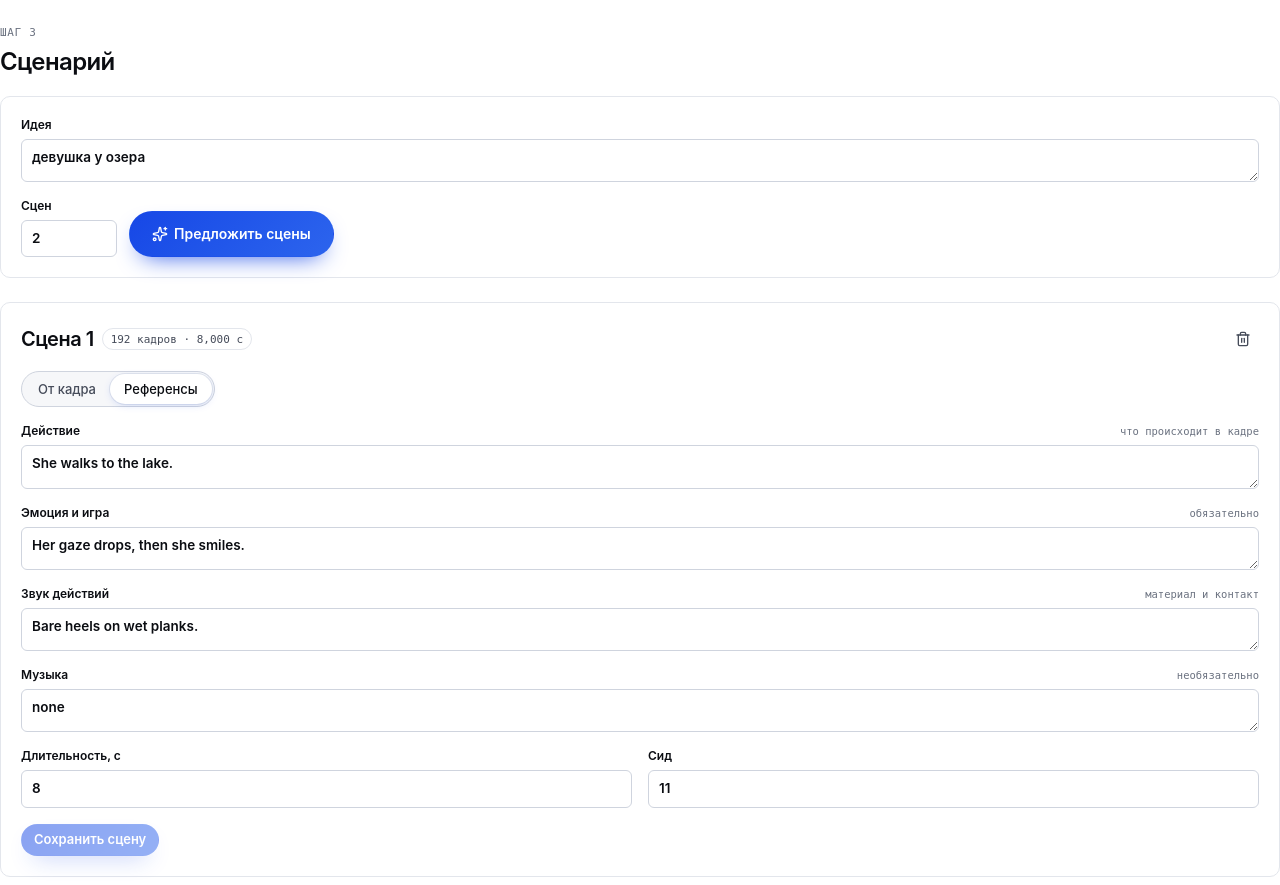
it: ScenarioStep › r1 №7: a failed save shows the server's message, and the button saves again
The image size is (1280, 885).
In the text box labelled "Музыка необязательно": (640, 711) top-left (21, 689), bottom-right (1259, 732), type "!"
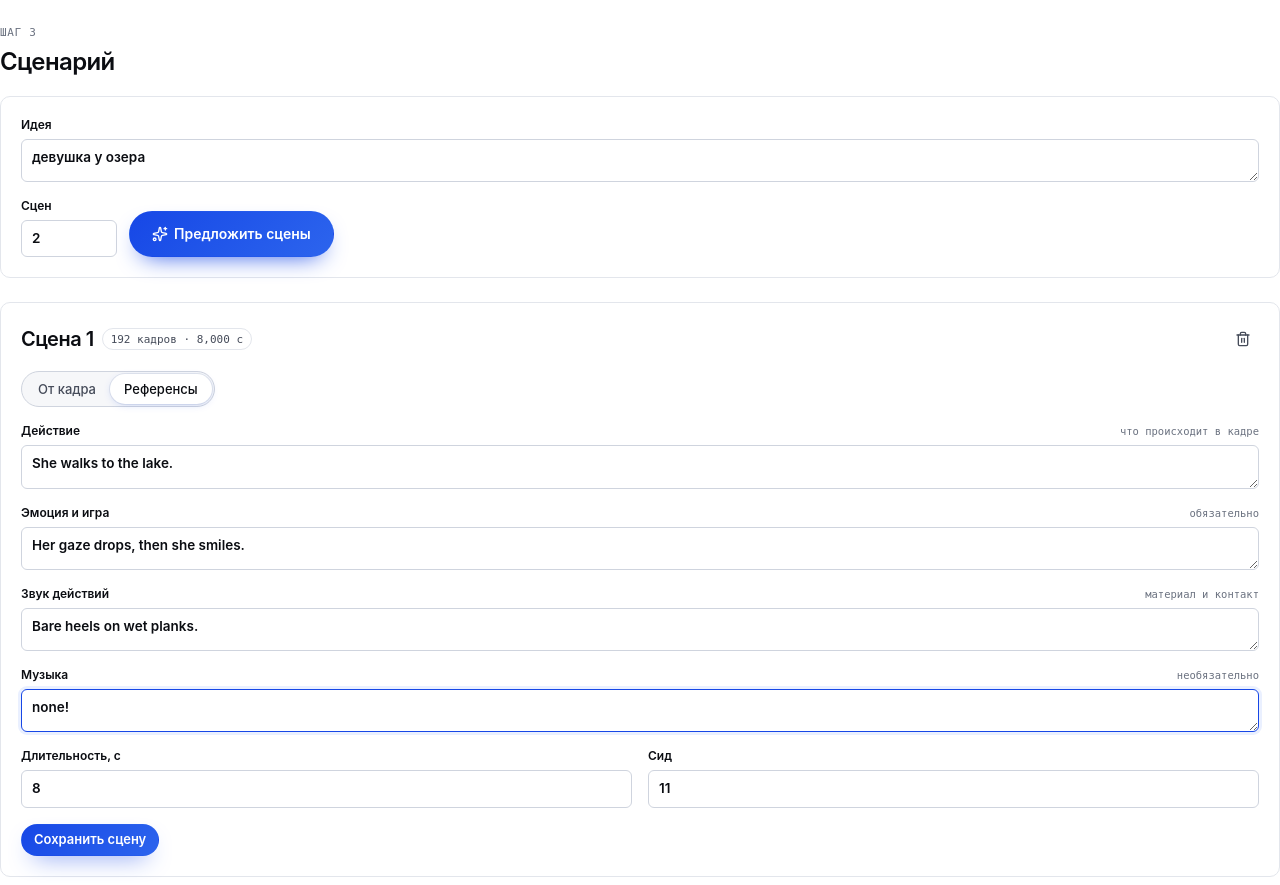
Click the button "Сохранить сцену": (90, 840) top-left (21, 824), bottom-right (159, 856)
(page scrolled)
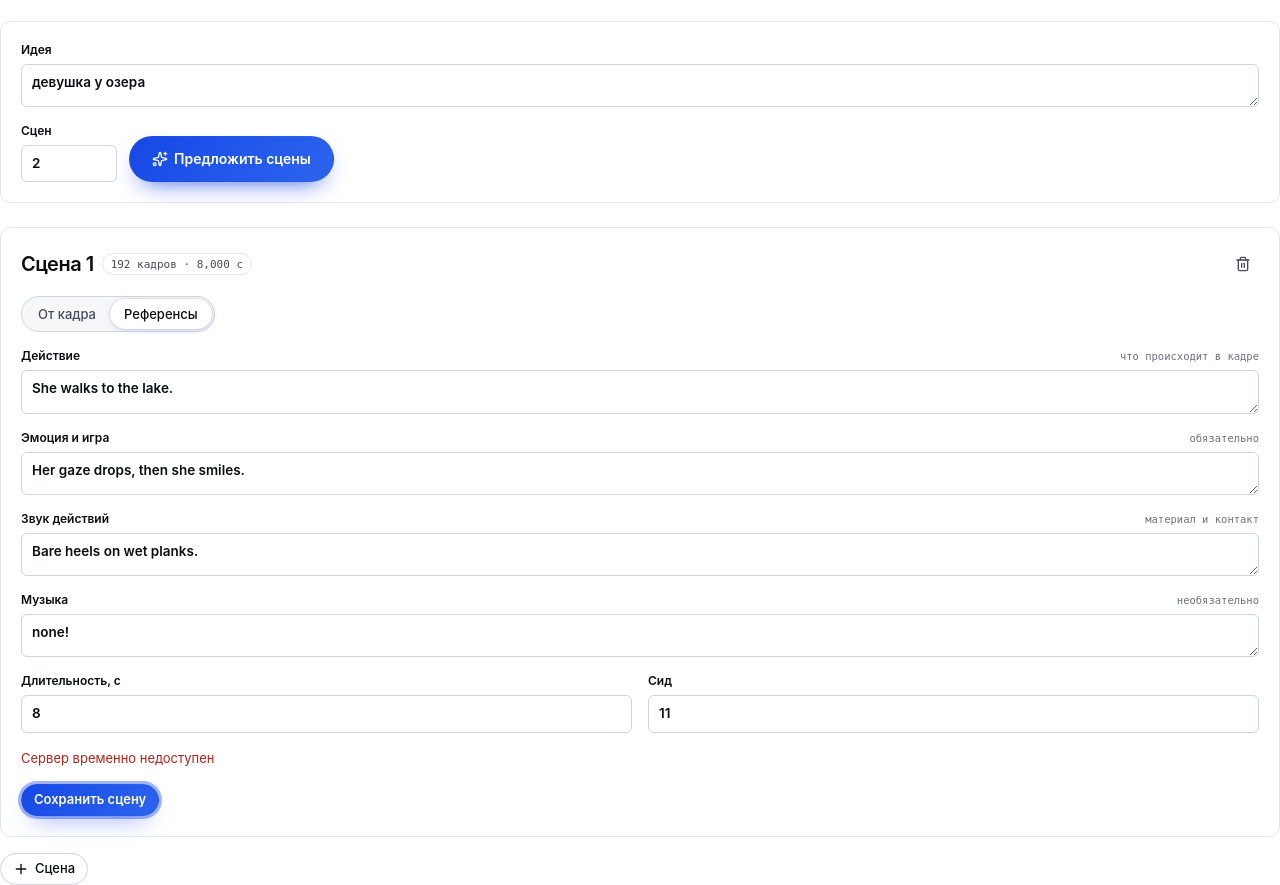
Check: the message reads "Сервер временно недоступен", box top-left (21, 750), bottom-right (214, 766)
Click the button "Сохранить сцену": (90, 800) top-left (21, 784), bottom-right (159, 816)
(page scrolled)
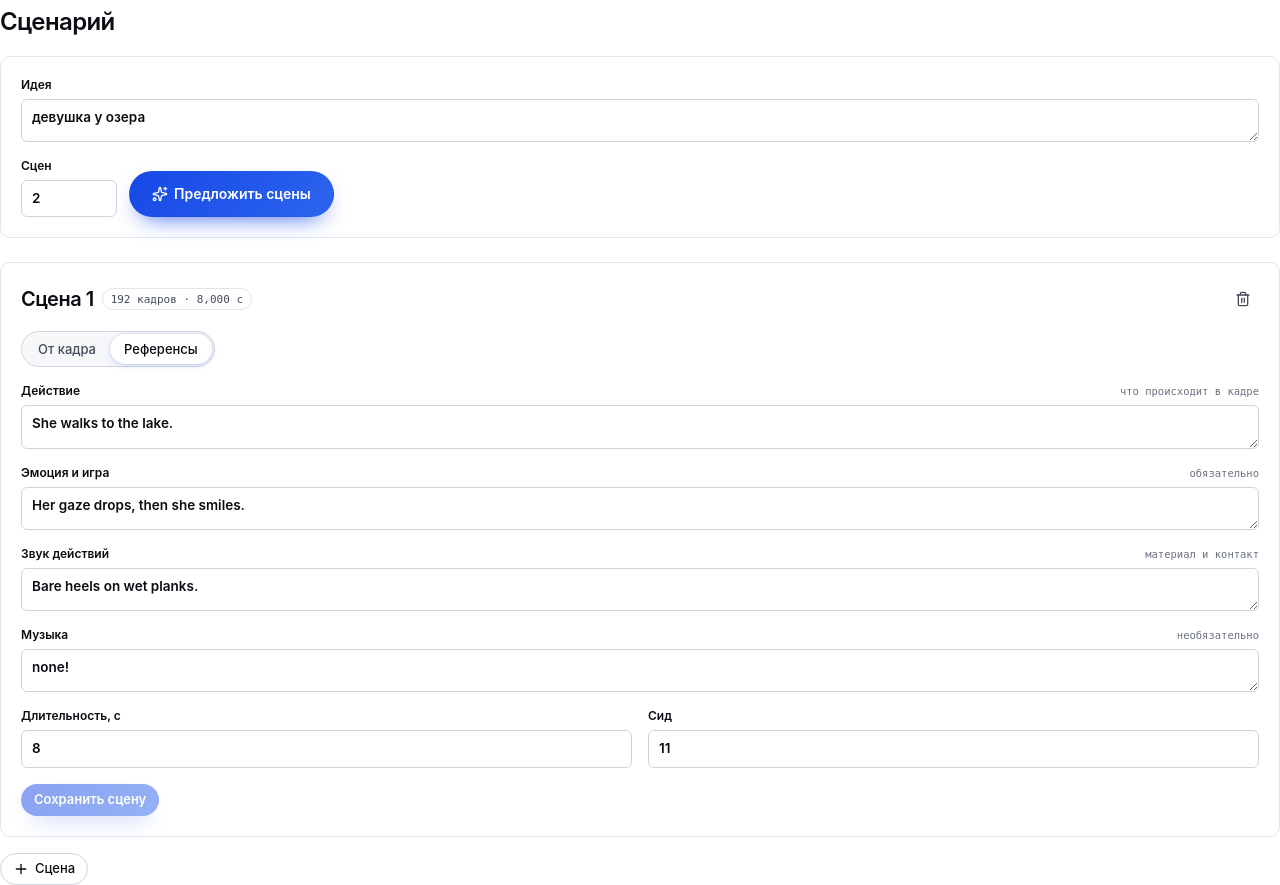
Check: the message "Сервер временно недоступен" is gone
